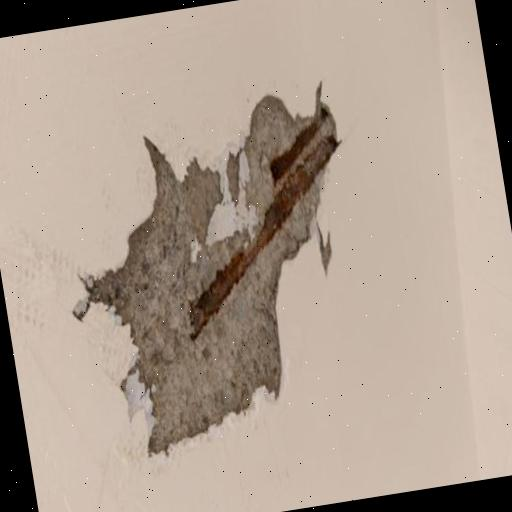spalling: (64, 77, 341, 463)
